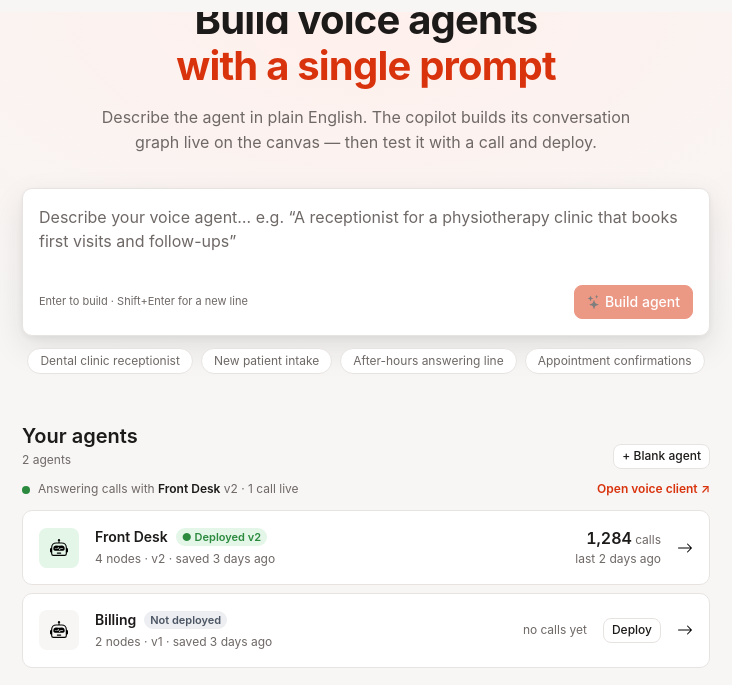
AgentListPage › deploys an agent and moves the badge to it
The image size is (732, 685).
(page scrolled)
Click the button with aria-label "Deploy Billing" at {"x": 632, "y": 630}, box [603,618,661,643]
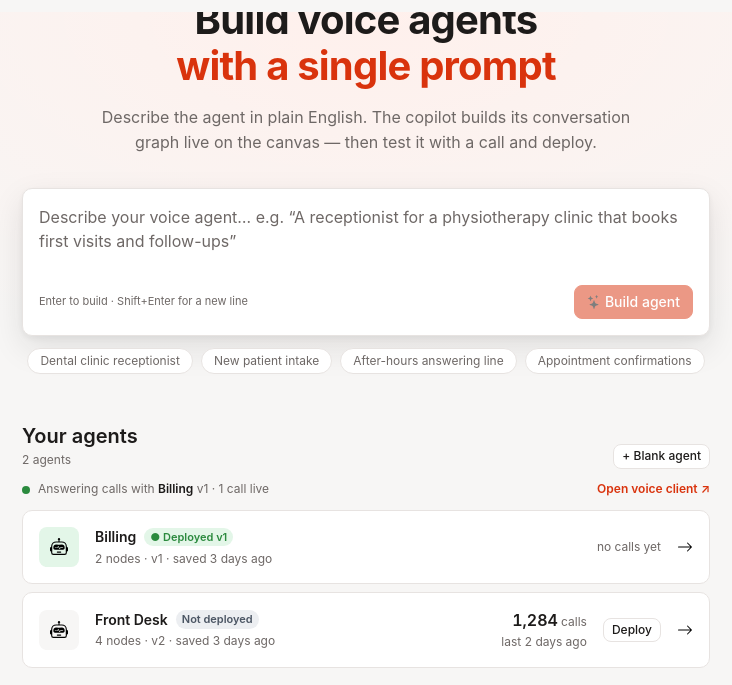
Result: the text "● Deployed v1" is shown at [144,528,233,546]
Result: the button with aria-label "Deploy Front Desk" is shown at [603,618,661,642]
